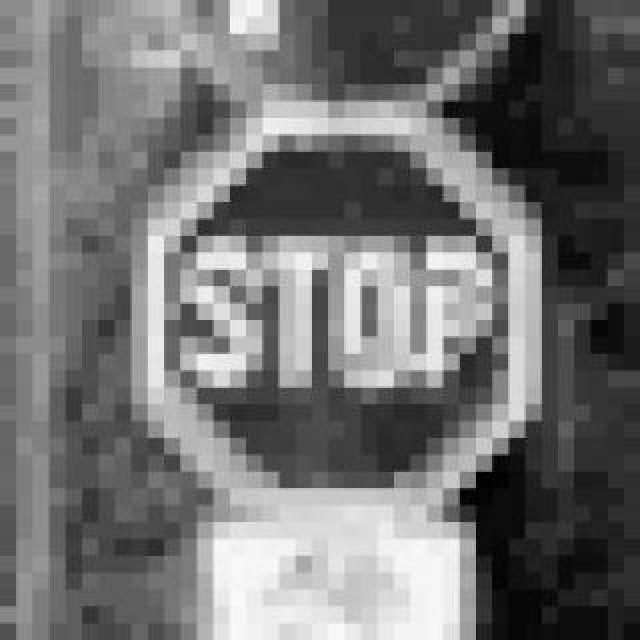stop: (138, 114, 534, 526)
